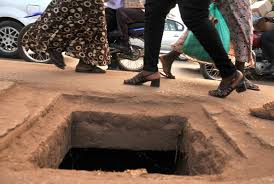Manhole-Open: (30, 88, 238, 184)
human: (120, 1, 250, 96), (165, 7, 262, 91), (33, 2, 113, 75)
